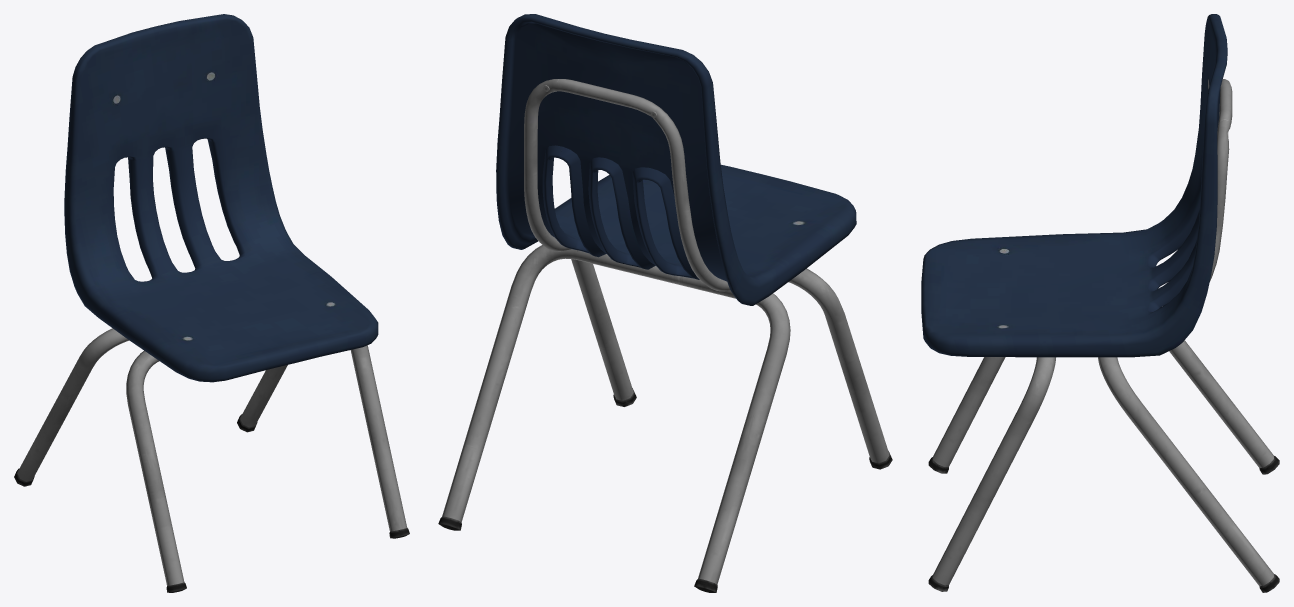
File: chair.glb
3 views of the same model, side by side, from view 1: azimuth 30°, elevation 25°; view 2: azimuth 150°, elevation 25°; view 3: azimuth 270°, elevation 25° (orthographic). The views are drawn at different scales.
Parts seen in each view (by area): view 1: SchoolChair_01; view 2: SchoolChair_01; view 3: SchoolChair_01.
Boxes of the visible parts, box(x1,y1,x2,y2) form: SchoolChair_01: box(14, 14, 409, 592); SchoolChair_01: box(438, 14, 892, 592); SchoolChair_01: box(921, 14, 1279, 592).
Bounding box in the file's own units: 0.5659 × 1.01 × 0.6752.
1 material, 1 textured.
